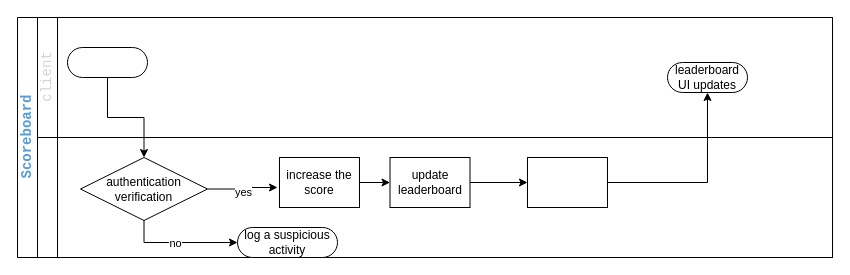
Some shapes in this 850 by 275 pixel diagram are drawn without their labels. The shapes that lost their labels are listed below. From the top down, each one's box as (x1, y1, x2, y2) in pixels, then its label:
(66, 46, 148, 78): Do Action
(36, 136, 832, 258): server
(526, 156, 608, 208): Broadcast update
